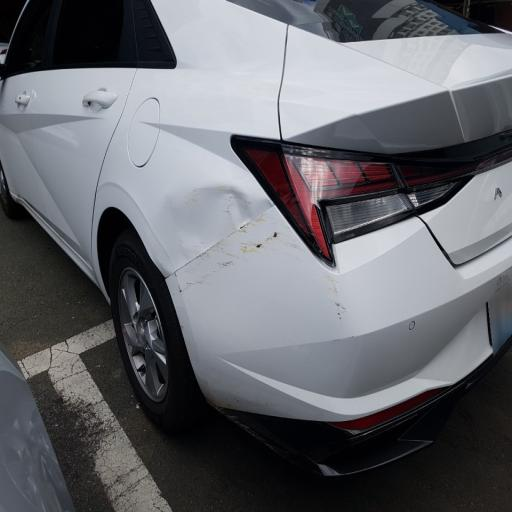dent: (115, 88, 302, 294)
